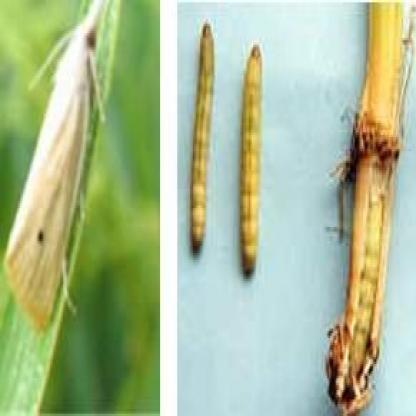stem-borer: (3, 0, 107, 334)
